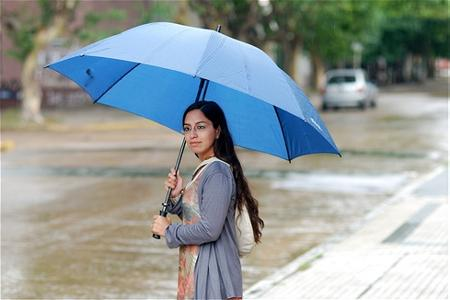person: (152, 101, 261, 300)
